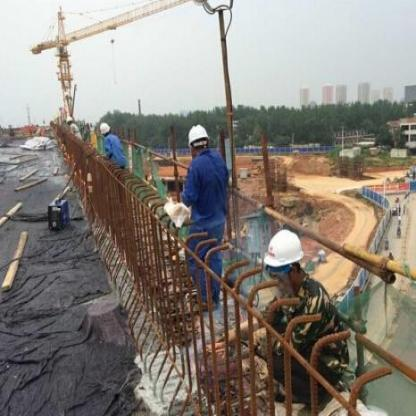helmet: (263, 229, 308, 287), (187, 124, 209, 155), (98, 121, 111, 136), (65, 115, 73, 125)
